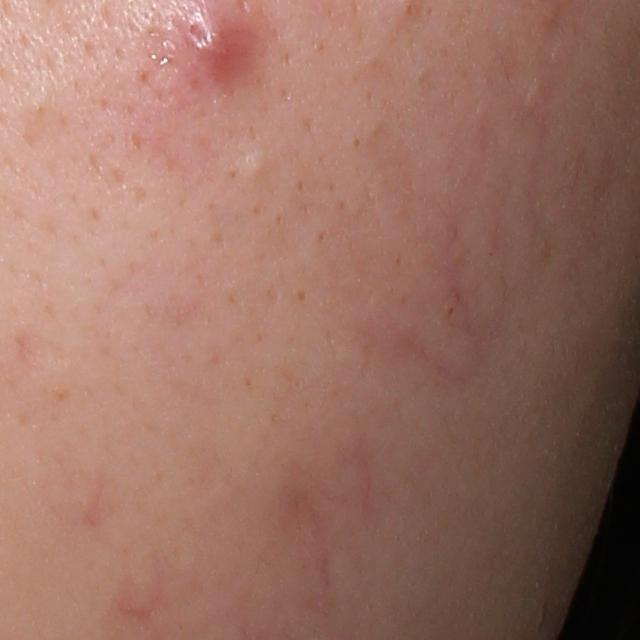atrophic_scar: (15, 327, 65, 383)
comedo: (238, 148, 270, 184)
papule: (190, 10, 245, 80)
